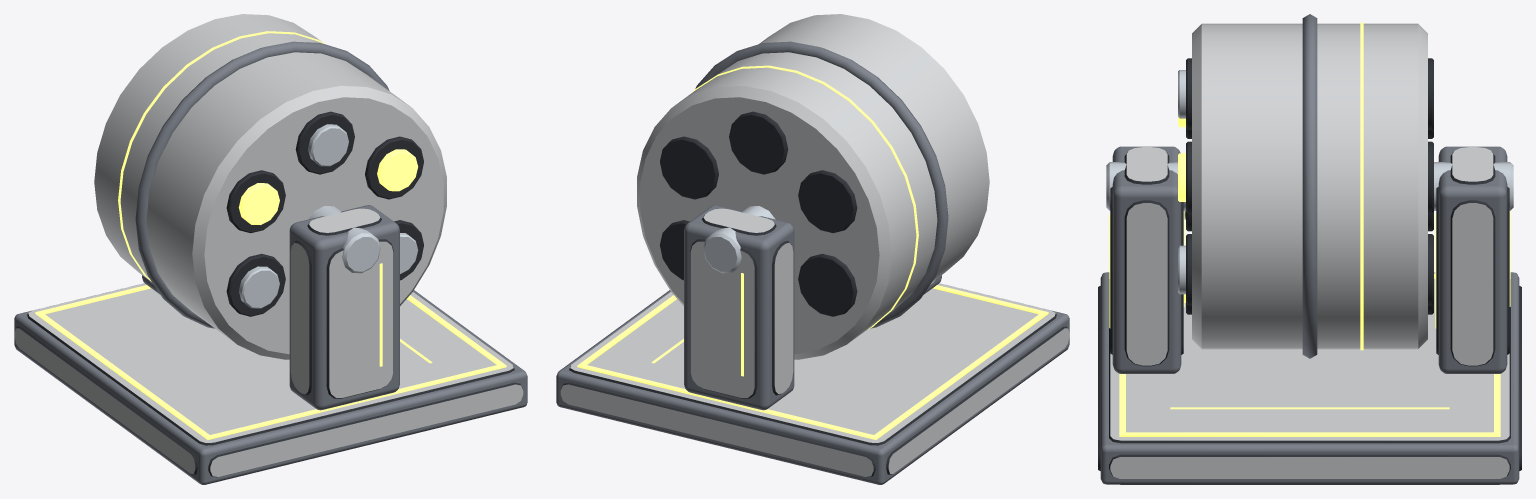
The model's file is R4X_ReloadBooster.fbx.
3 renders of one model, left to right at view 1: azimuth 30°, elevation 25°; view 2: azimuth 150°, elevation 25°; view 3: azimuth 270°, elevation 25°, orthographic. The views are drawn at different scales.
Visible parts, largest first — view 1: R4X_ReloadBooster_Drum, R4X_ReloadBooster_Body; view 2: R4X_ReloadBooster_Drum, R4X_ReloadBooster_Body; view 3: R4X_ReloadBooster_Body, R4X_ReloadBooster_Drum.
Boxes of the visible parts, left/top/right/bottom form: R4X_ReloadBooster_Drum: left=94, top=14, right=446, bottom=359; R4X_ReloadBooster_Body: left=14, top=205, right=527, bottom=484; R4X_ReloadBooster_Drum: left=637, top=14, right=989, bottom=359; R4X_ReloadBooster_Body: left=556, top=205, right=1069, bottom=484; R4X_ReloadBooster_Body: left=1098, top=146, right=1521, bottom=484; R4X_ReloadBooster_Drum: left=1178, top=14, right=1433, bottom=358.
Bounding box in the file's own units: 0.52 × 0.5017 × 0.52.
